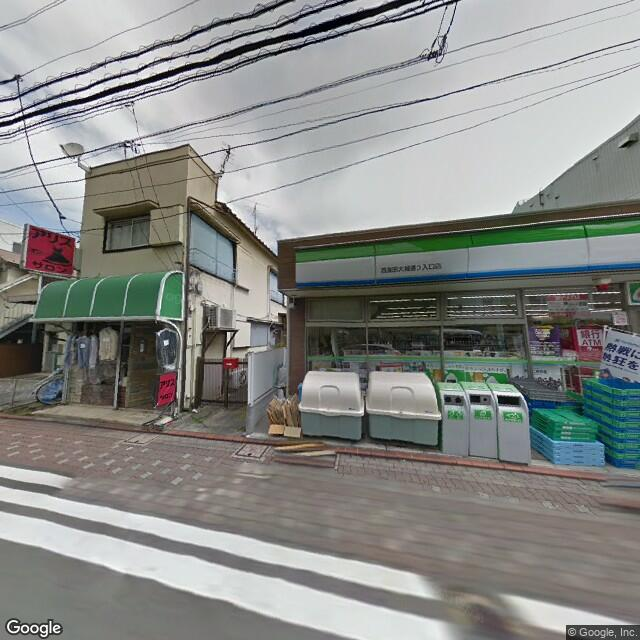family_mart: (295, 211, 639, 291)
